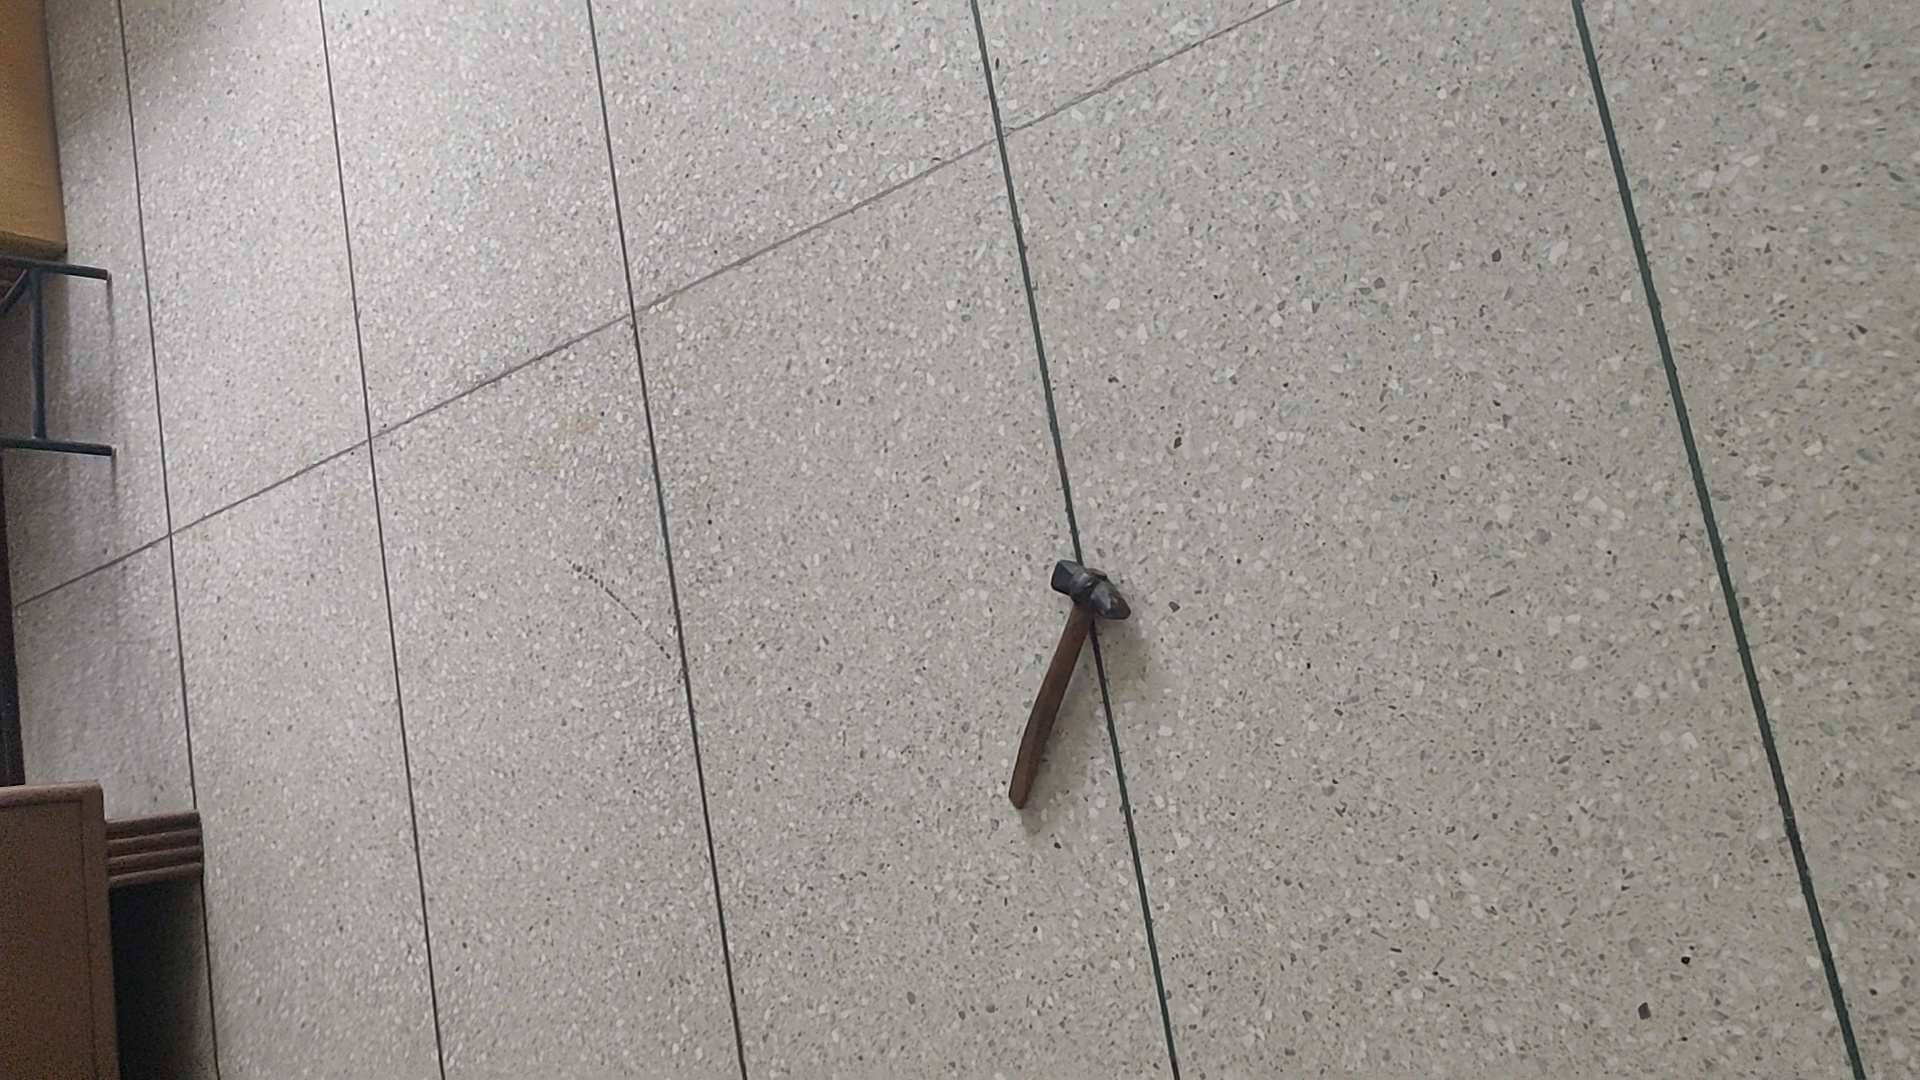hammer: (996, 556, 1131, 818)
